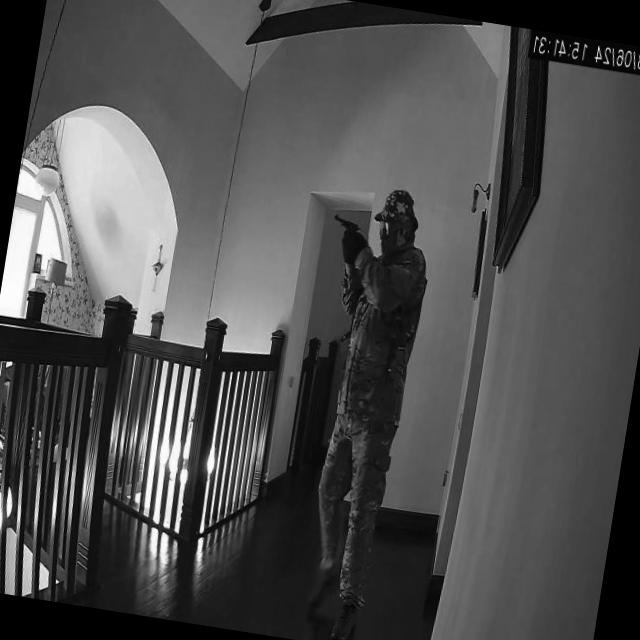gun: (328, 210, 362, 247)
person with a gun: (303, 183, 440, 640)
